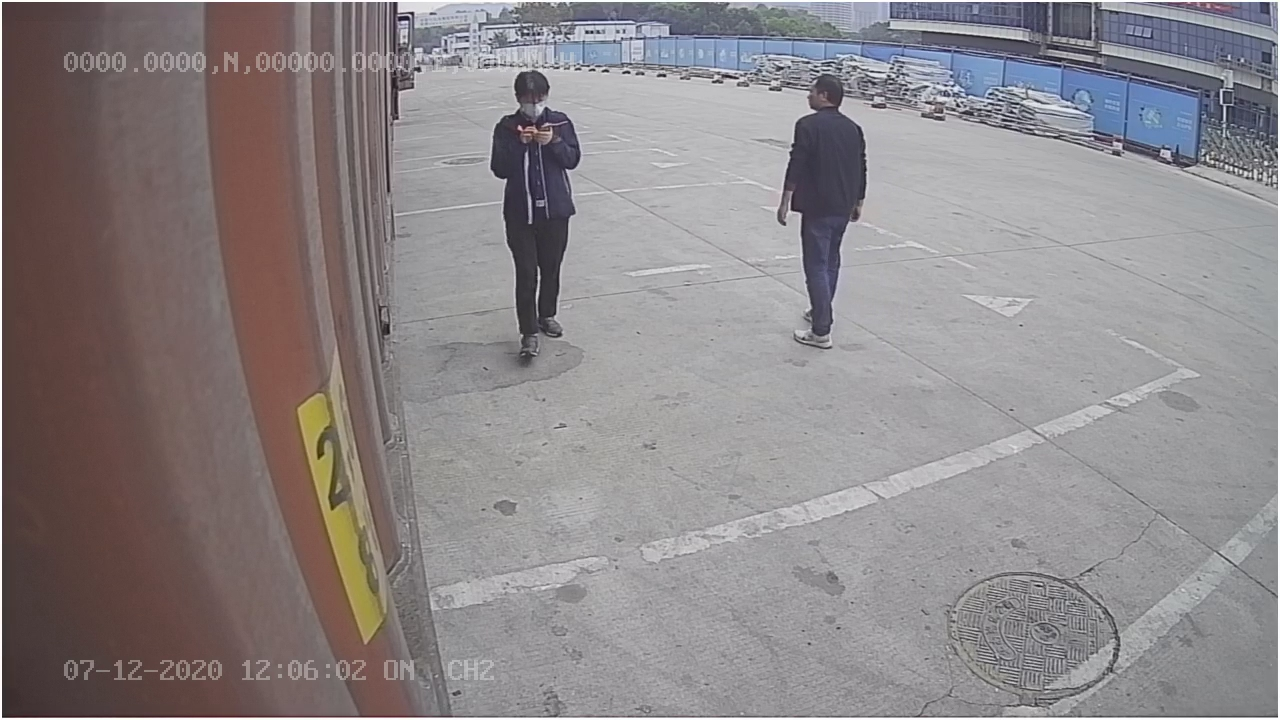person: (770, 72, 870, 356), (491, 64, 586, 357)
